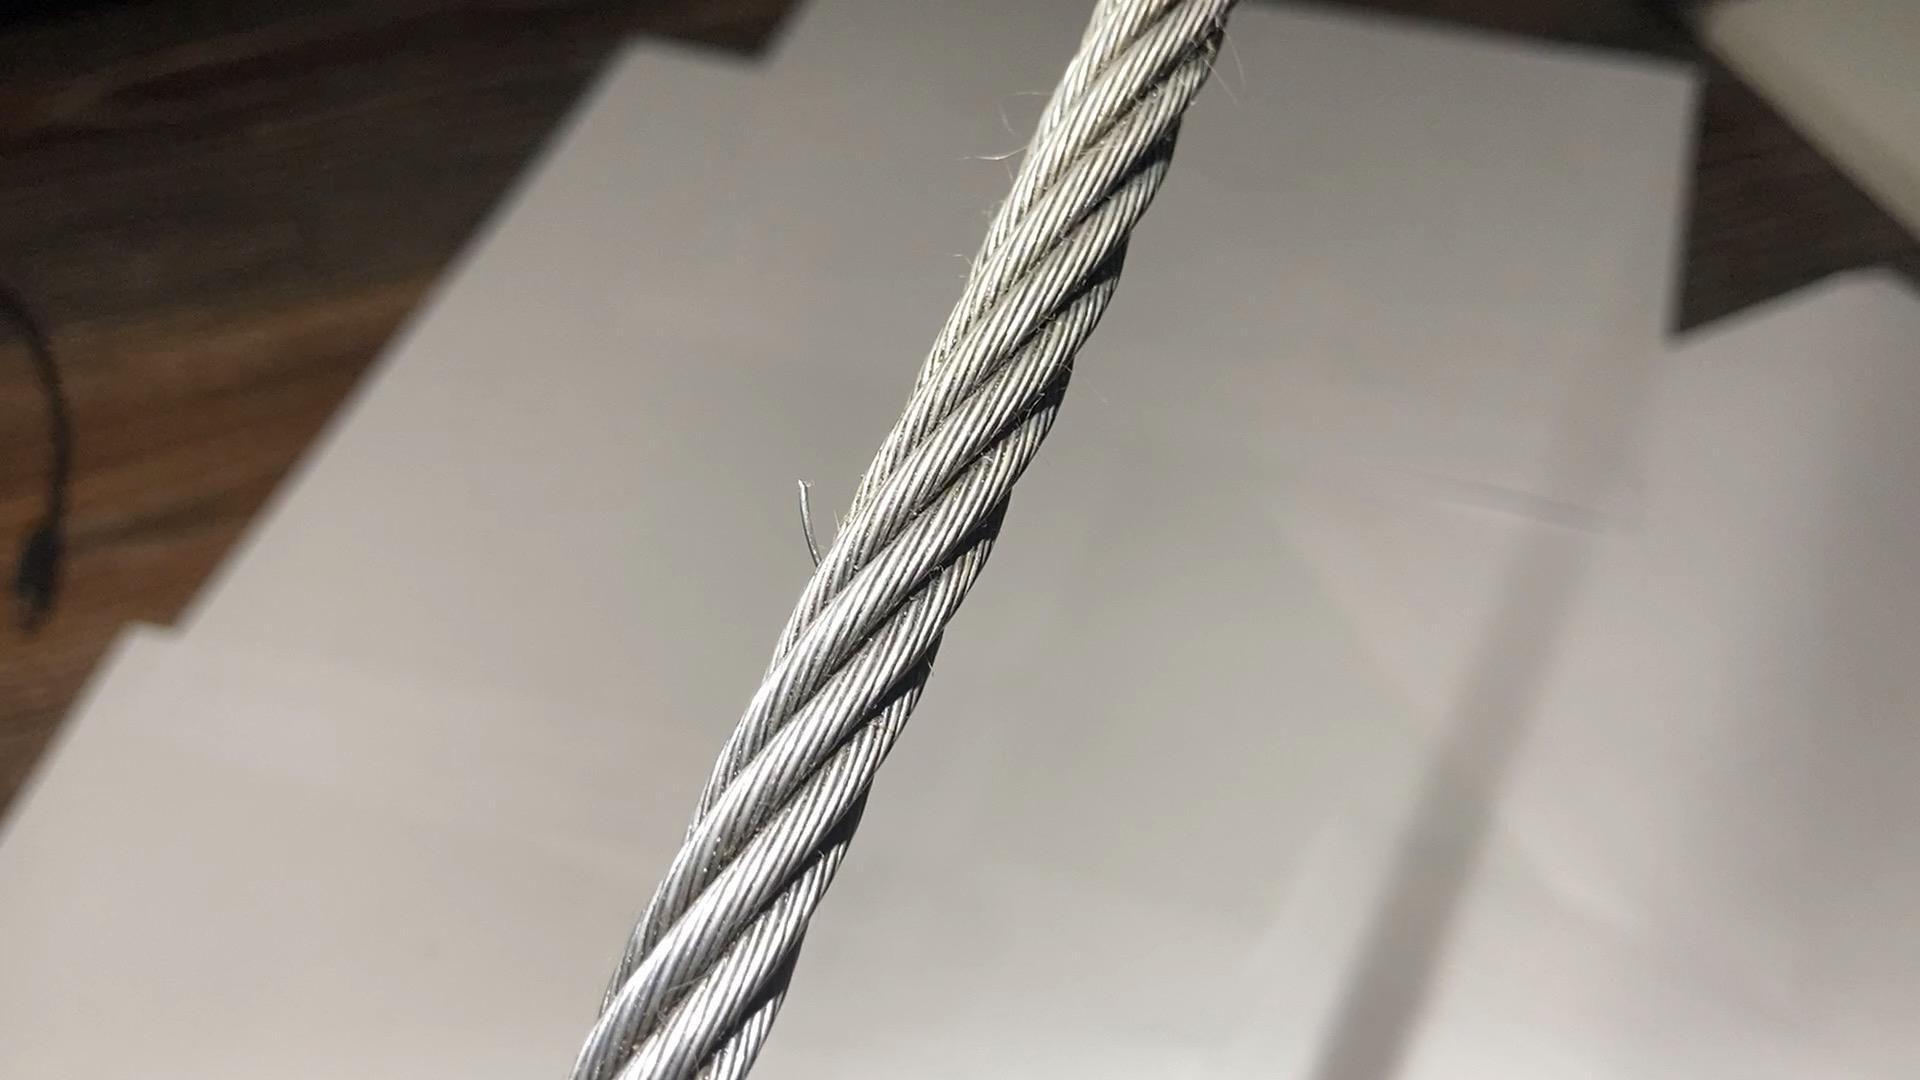break: (761, 450, 851, 583)
